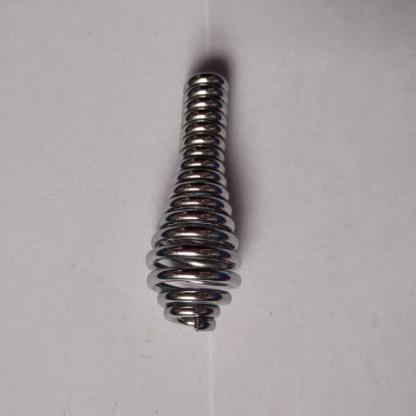FOD: (140, 67, 244, 333)
